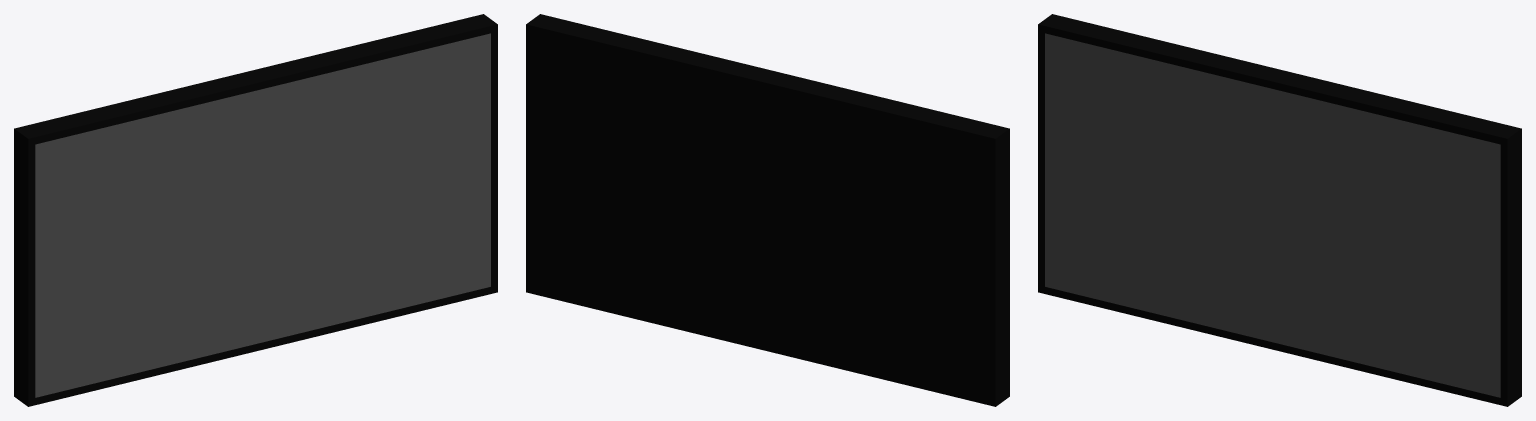
3 views of the same model, side by side, from view 1: azimuth 30°, elevation 25°; view 2: azimuth 150°, elevation 25°; view 3: azimuth 330°, elevation 25° (orthographic).
Visible parts, largest first — view 1: tv; view 2: tv; view 3: tv.
Boxes of the visible parts, box(x1,y1,x2,y2) form: tv: box(14, 14, 497, 406); tv: box(526, 14, 1009, 406); tv: box(1038, 14, 1521, 406).
Bounding box in the file's own units: 12.96 × 7.07 × 0.676.
